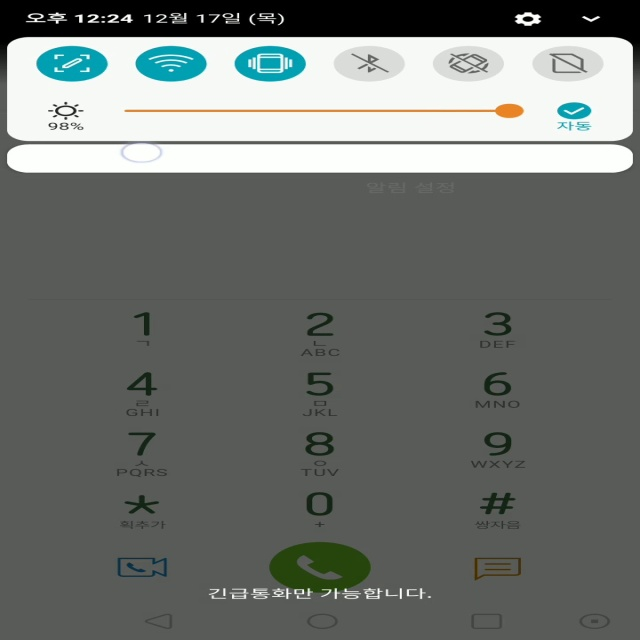Cursor: (120, 142, 165, 164)
